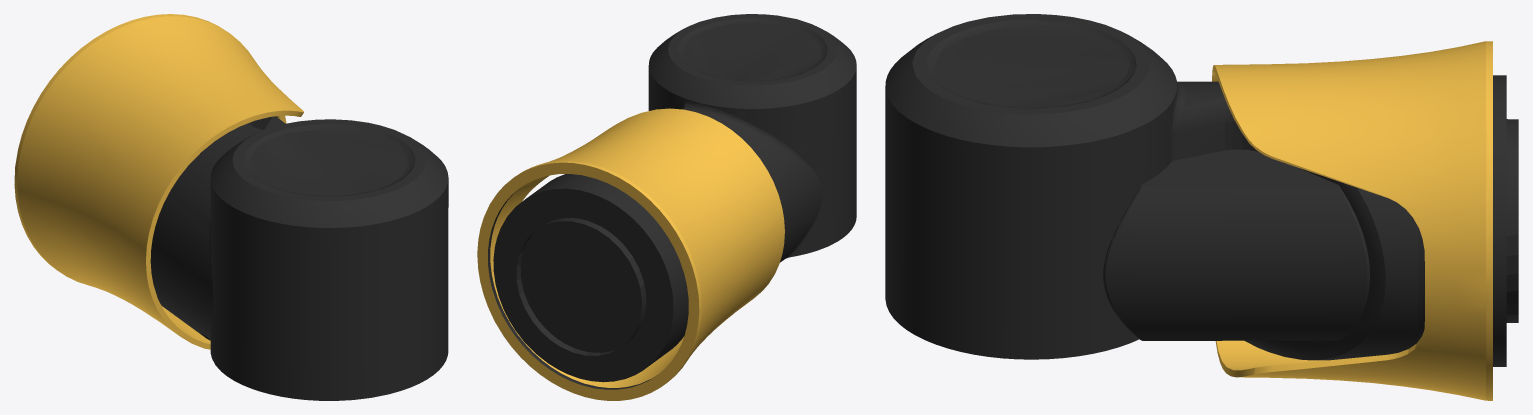
Rendered from arml3.obj.
3 views of the same model, side by side, from view 1: azimuth 30°, elevation 25°; view 2: azimuth 150°, elevation 25°; view 3: azimuth 270°, elevation 25° (orthographic). The views are drawn at different scales.
Visible parts, largest first — view 1: arml3_003-mesh; view 2: arml3_003-mesh; view 3: arml3_003-mesh.
Boxes of the visible parts, bbox=[...] form: arml3_003-mesh: bbox=[14, 14, 448, 400]; arml3_003-mesh: bbox=[477, 14, 856, 400]; arml3_003-mesh: bbox=[885, 14, 1518, 400].
Size of the model in its own units: 0.1061 by 0.106 by 0.1866.
Materials: 1 (1 with a texture image).
